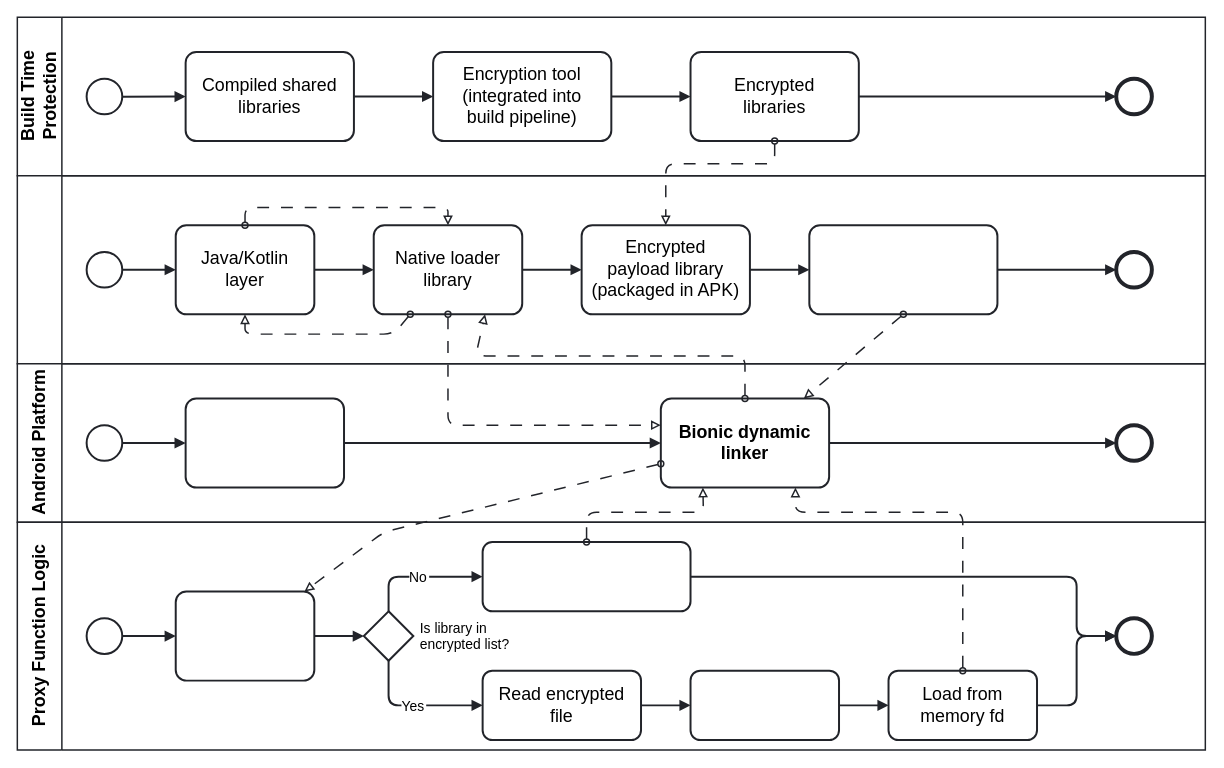
This 1224x768 diagram has some shape labels left out. Each missing label, with the box of its shape:
ART and ClassLoader: (184, 397, 345, 488)
Decrypt to memory: (689, 669, 840, 741)
Forward to original dlopen function: (481, 541, 691, 612)
Intercepted dlopen call: (174, 590, 315, 681)
Protected Android Application: (16, 175, 1206, 364)
Runtime protection library (hooks + decryption): (808, 224, 998, 315)
